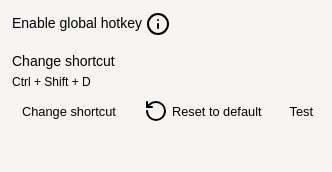
Test case: HotkeySettingsSection › recorder ignores modifierless keypresses and keeps recording; Escape cancels
Click the button with test id "profiles-settings-hotkey-change" at x=69, y=111, box [12,97,126,125]
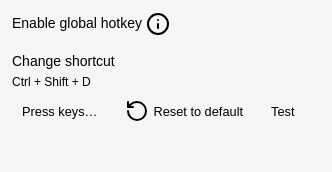
Press J in the button with test id "profiles-settings-hotkey-recording", box [12,97,107,125]
Press Enter in the button with test id "profiles-settings-hotkey-recording", box [12,97,107,125]
Result: the button with test id "profiles-settings-hotkey-recording" is shown
Press Escape in the button with test id "profiles-settings-hotkey-recording", box [12,97,107,125]
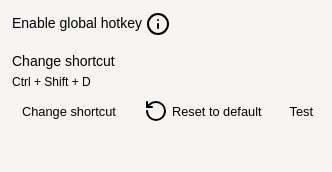
Result: the button with test id "profiles-settings-hotkey-change" is shown at [12,97,126,125]
